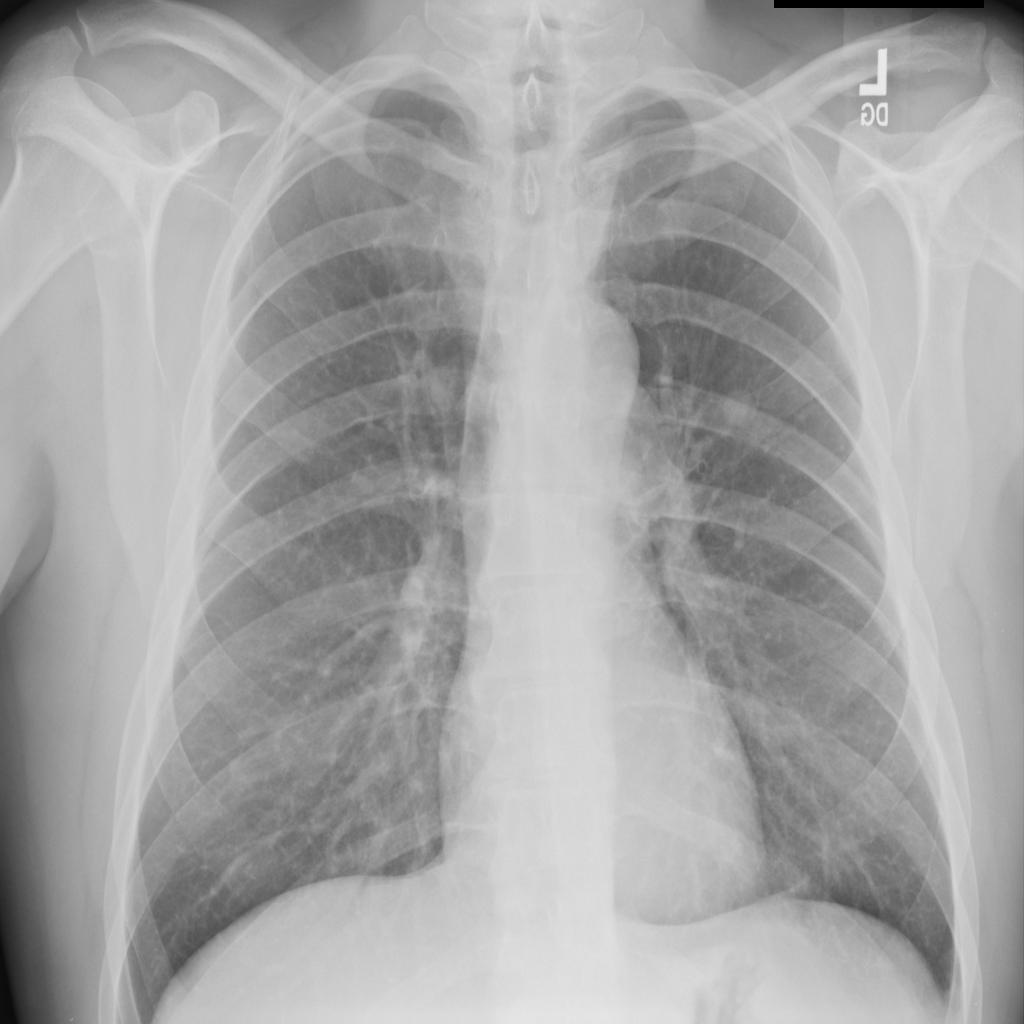nodule: (708, 369, 774, 444)
